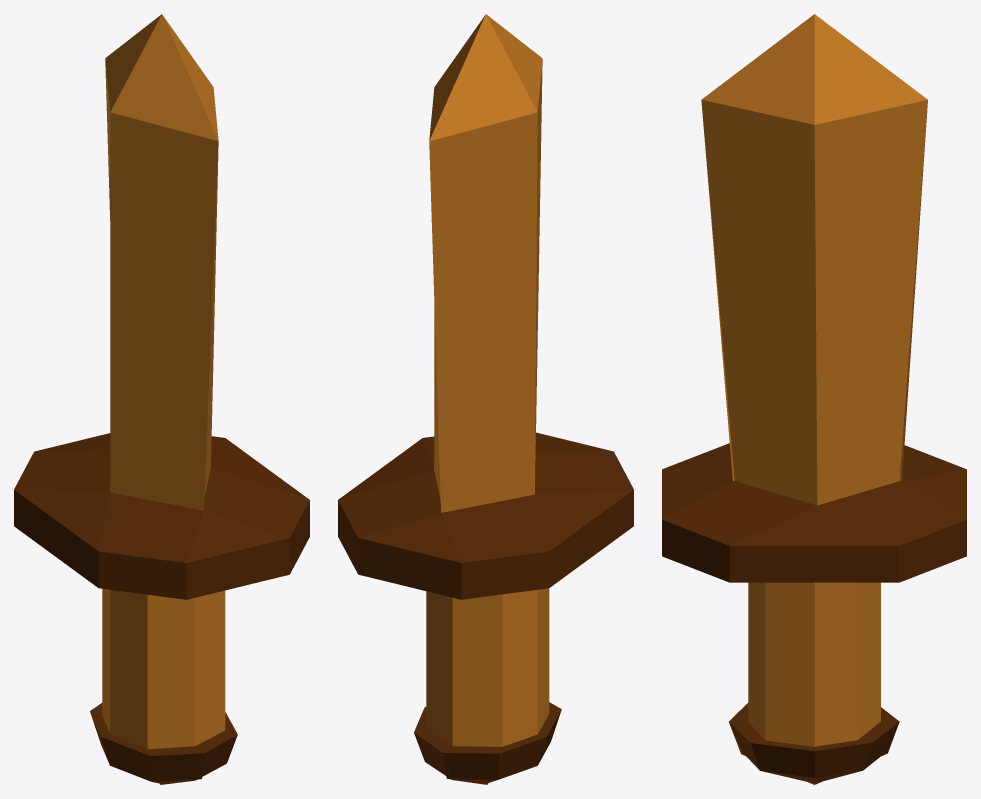
Rendered from sword.fbx.
The picture shows the model from 3 angles, left to right: view 1: azimuth 30°, elevation 25°; view 2: azimuth 150°, elevation 25°; view 3: azimuth 270°, elevation 25°; orthographic projection.
Visible parts, largest first — view 1: Cube; view 2: Cube; view 3: Cube.
Boxes of the visible parts, x1=… form: Cube: x1=14, y1=14, x2=309, y2=784; Cube: x1=338, y1=14, x2=633, y2=784; Cube: x1=662, y1=14, x2=966, y2=784.
Size of the model in its own units: 42.67 by 149 by 53.29.
